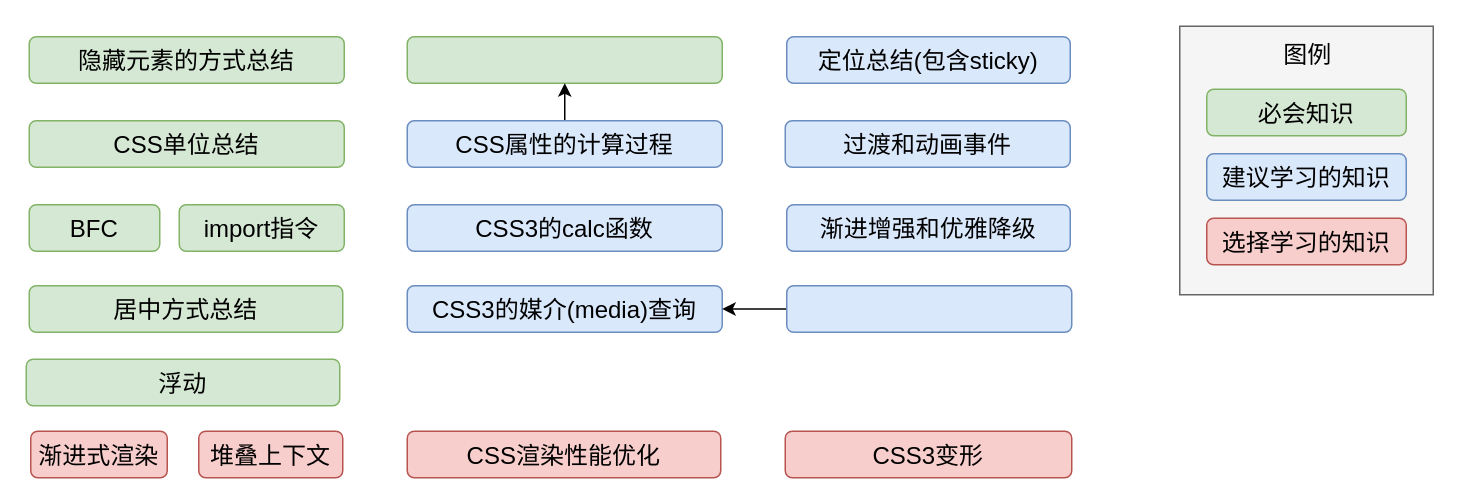
The diagram is 1460 pixels wide and 504 high, and some of its shapes have lost their labels. Each missing label, with the centre of its shape:
CSS层叠继承规则总结: point 564,59
元素宽度处理: point 928,308
